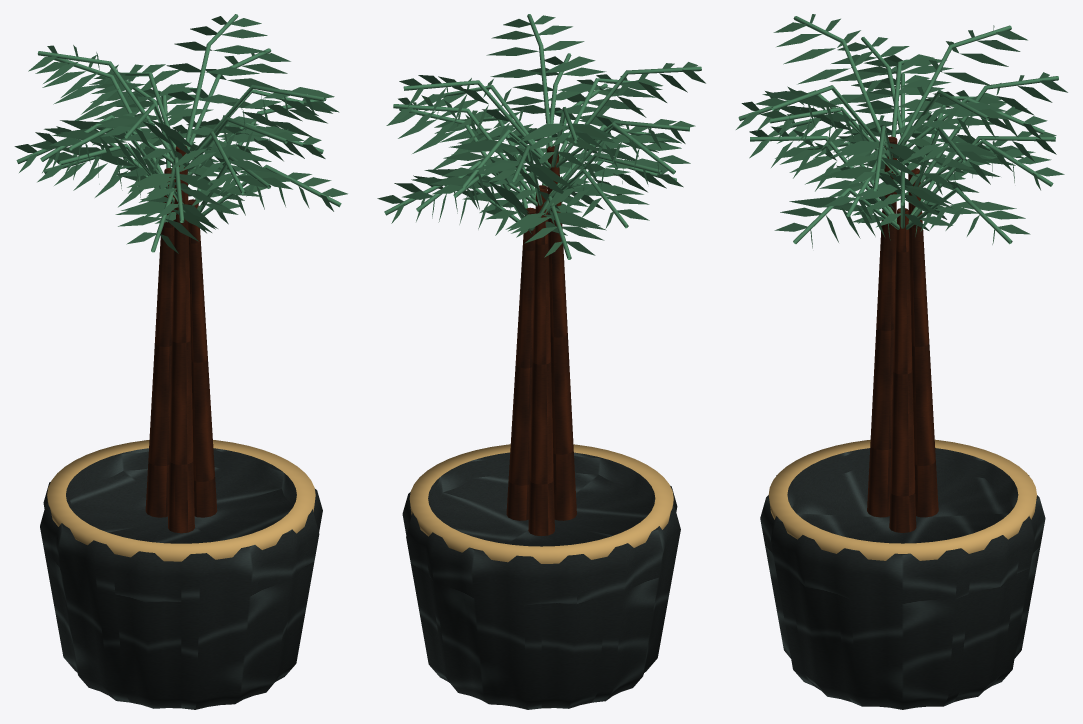
The model's file is hotel-planter.glb.
The picture shows the model from 3 angles, left to right: view 1: azimuth 30°, elevation 25°; view 2: azimuth 150°, elevation 25°; view 3: azimuth 270°, elevation 25°; orthographic projection.
Visible parts, largest first — view 1: Static | Green marble | original mineral veins.009, Static | Palm fronds.009, Static | Walnut | original longitudinal grain.009, Static | Aged champagne brass.009; view 2: Static | Green marble | original mineral veins.009, Static | Palm fronds.009, Static | Walnut | original longitudinal grain.009, Static | Aged champagne brass.009; view 3: Static | Green marble | original mineral veins.009, Static | Palm fronds.009, Static | Walnut | original longitudinal grain.009, Static | Aged champagne brass.009.
Boxes of the visible parts, x1=… form: Static | Green marble | original mineral veins.009: x1=40, y1=448, x2=322, y2=709; Static | Palm fronds.009: x1=14, y1=14, x2=347, y2=253; Static | Walnut | original longitudinal grain.009: x1=145, y1=145, x2=217, y2=533; Static | Aged champagne brass.009: x1=47, y1=440, x2=315, y2=561; Static | Green marble | original mineral veins.009: x1=402, y1=452, x2=680, y2=709; Static | Palm fronds.009: x1=377, y1=14, x2=705, y2=259; Static | Walnut | original longitudinal grain.009: x1=506, y1=146, x2=576, y2=536; Static | Aged champagne brass.009: x1=409, y1=444, x2=673, y2=563; Static | Green marble | original mineral veins.009: x1=760, y1=448, x2=1045, y2=709; Static | Palm fronds.009: x1=736, y1=14, x2=1067, y2=248; Static | Walnut | original longitudinal grain.009: x1=867, y1=136, x2=938, y2=532; Static | Aged champagne brass.009: x1=768, y1=439, x2=1036, y2=560.
Bounding box in the file's own units: 1.14 × 2.29 × 1.15.
5 materials, 2 textured.
